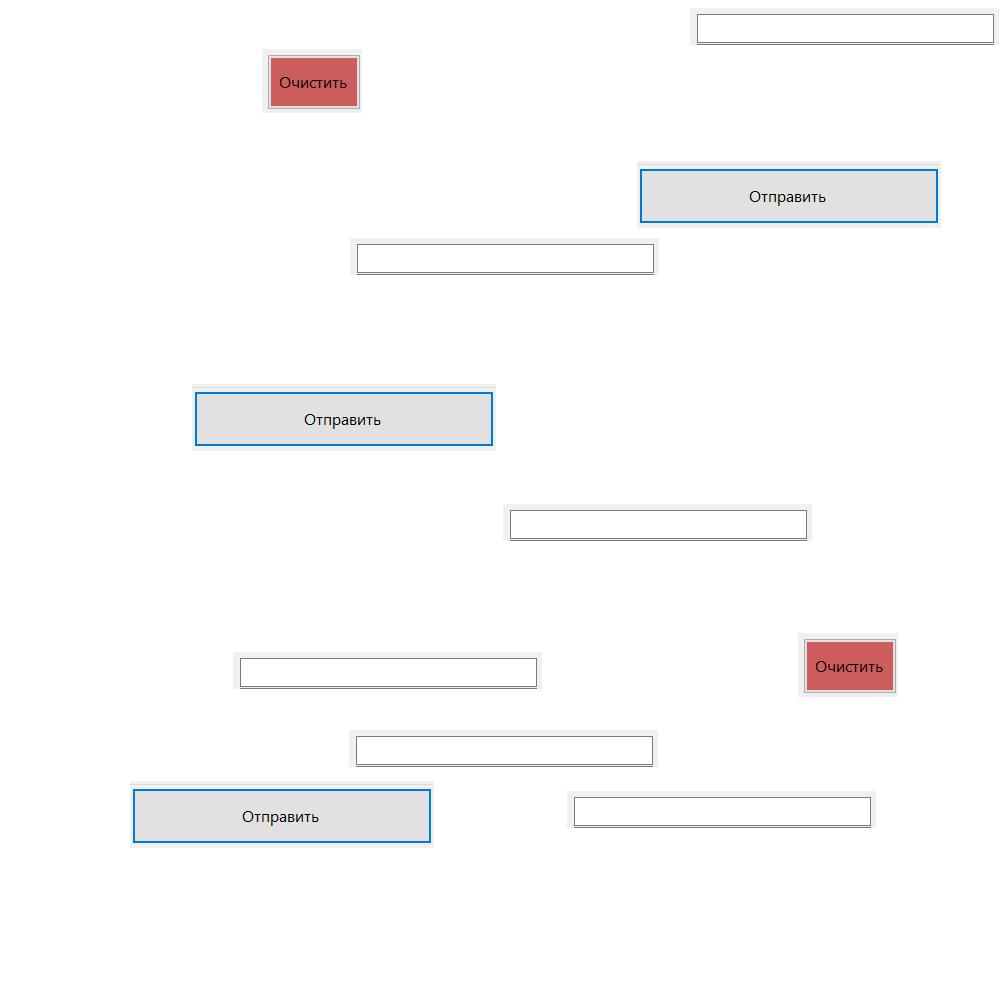Button: (130, 781, 434, 848), (637, 161, 941, 228), (192, 384, 496, 451), (262, 49, 362, 113), (798, 633, 898, 697)
EditText-: (233, 652, 542, 689), (690, 8, 999, 45), (350, 238, 659, 275), (567, 791, 876, 828), (503, 504, 812, 541), (349, 730, 658, 767)
